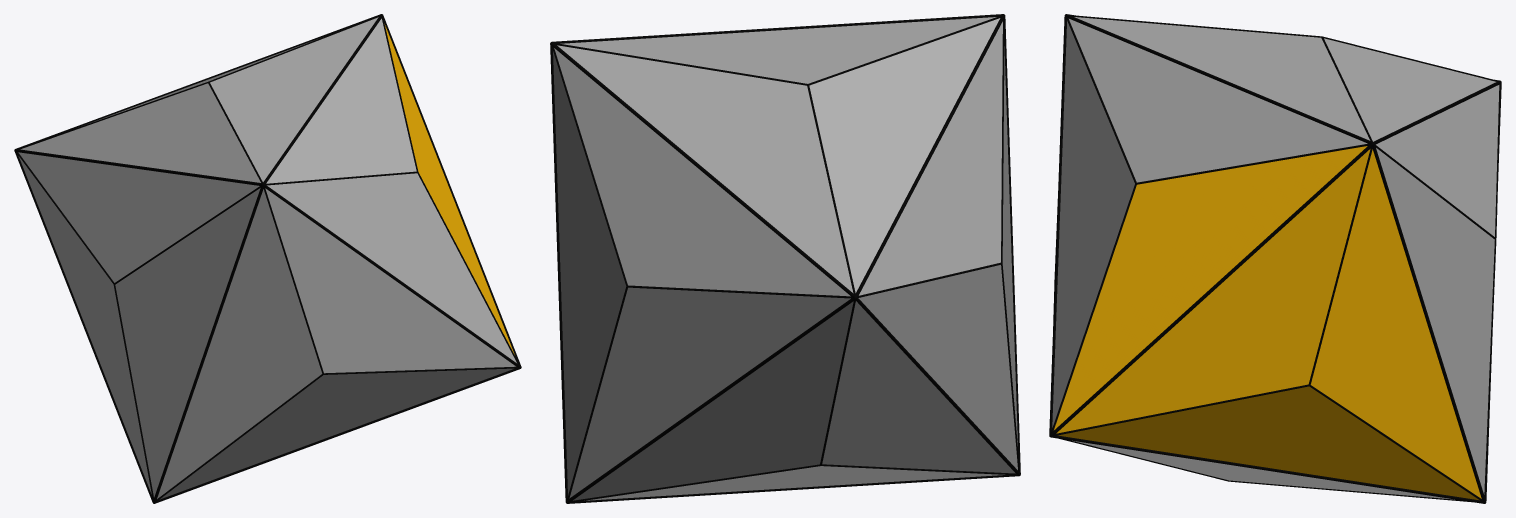
The model's file is polyformsTriOctRot_4_3.glb.
3 renders of one model, left to right at view 1: azimuth 30°, elevation 25°; view 2: azimuth 150°, elevation 25°; view 3: azimuth 270°, elevation 25°, orthographic. The views are drawn at different scales.
Size of the model in its own units: 3.4 by 3.39 by 3.39.
